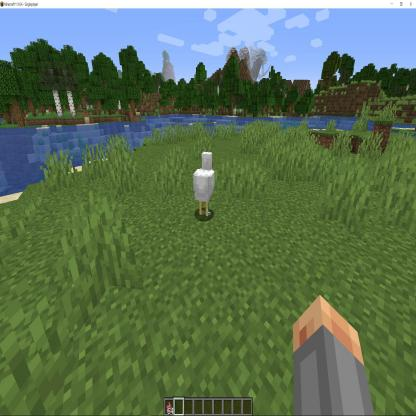minecraft-pigs: (191, 148, 219, 222)
